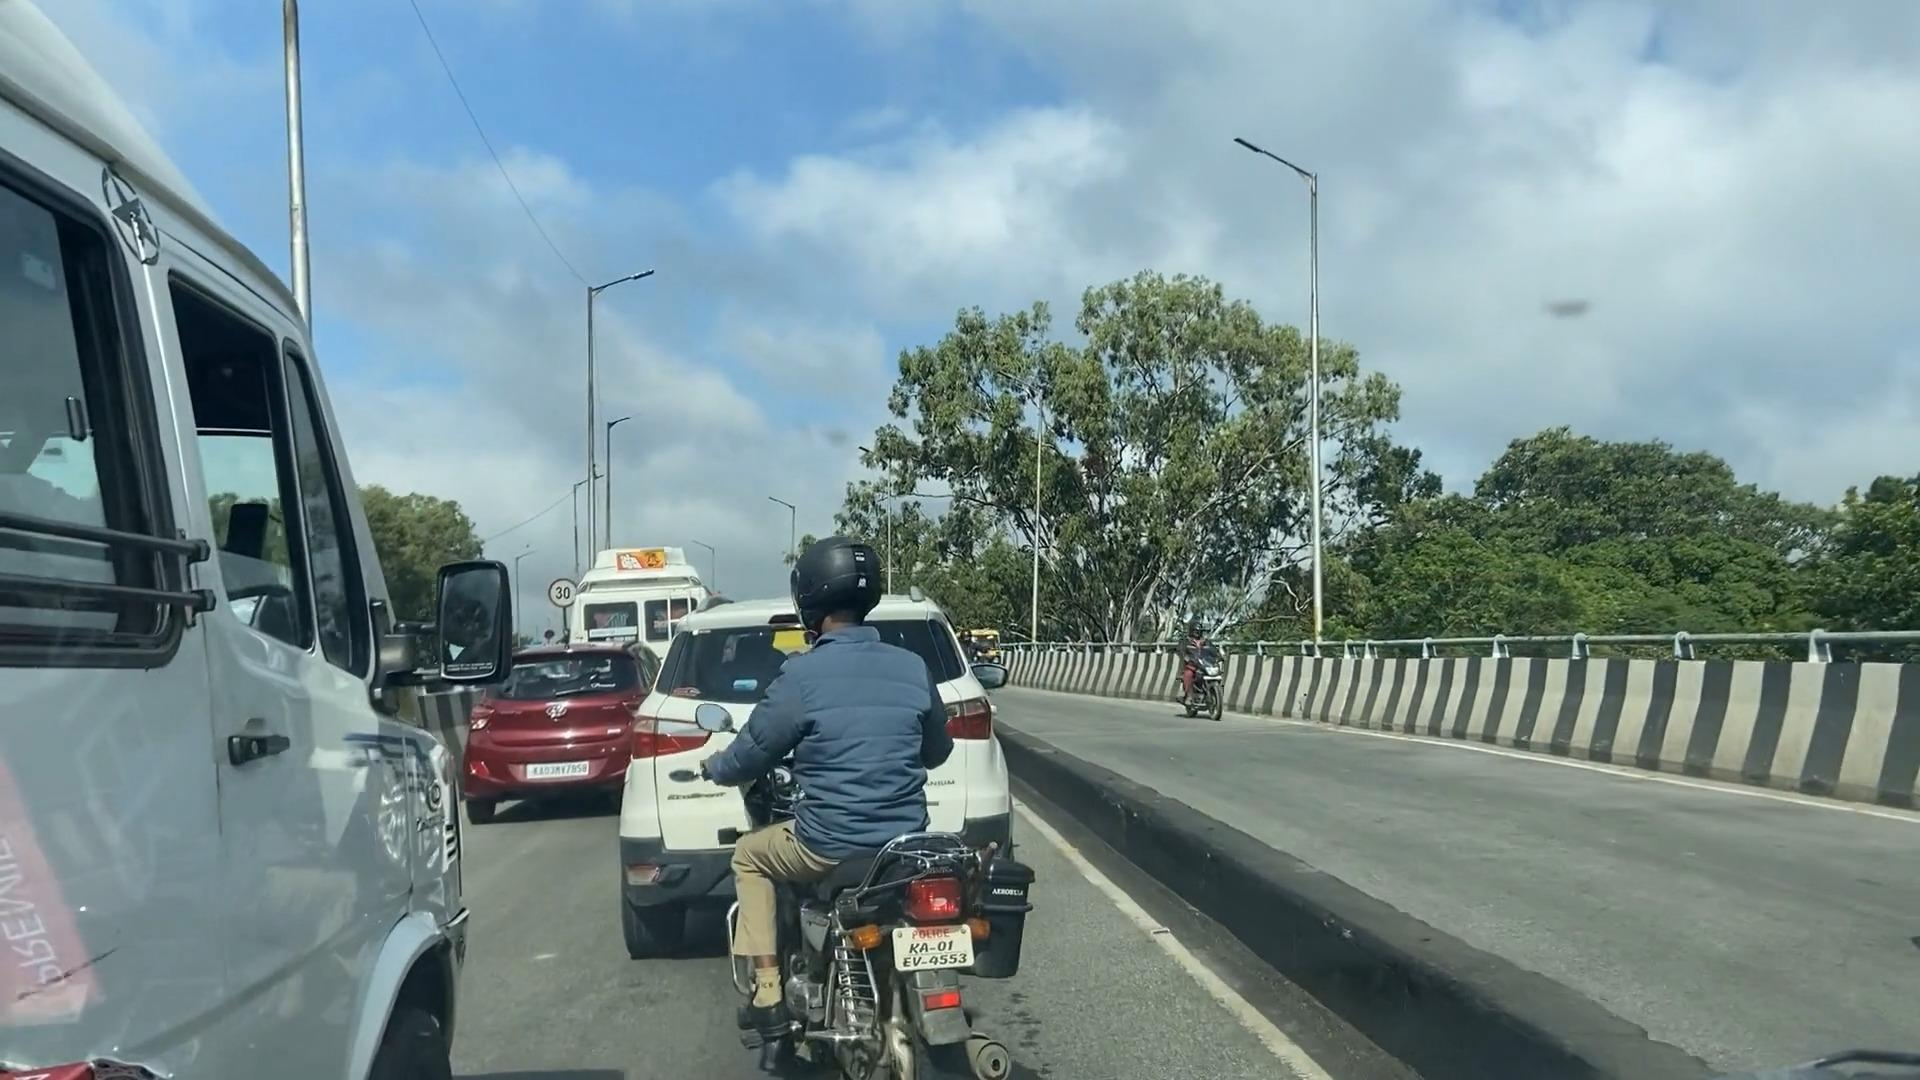LMV: (744, 554, 1017, 1080)
